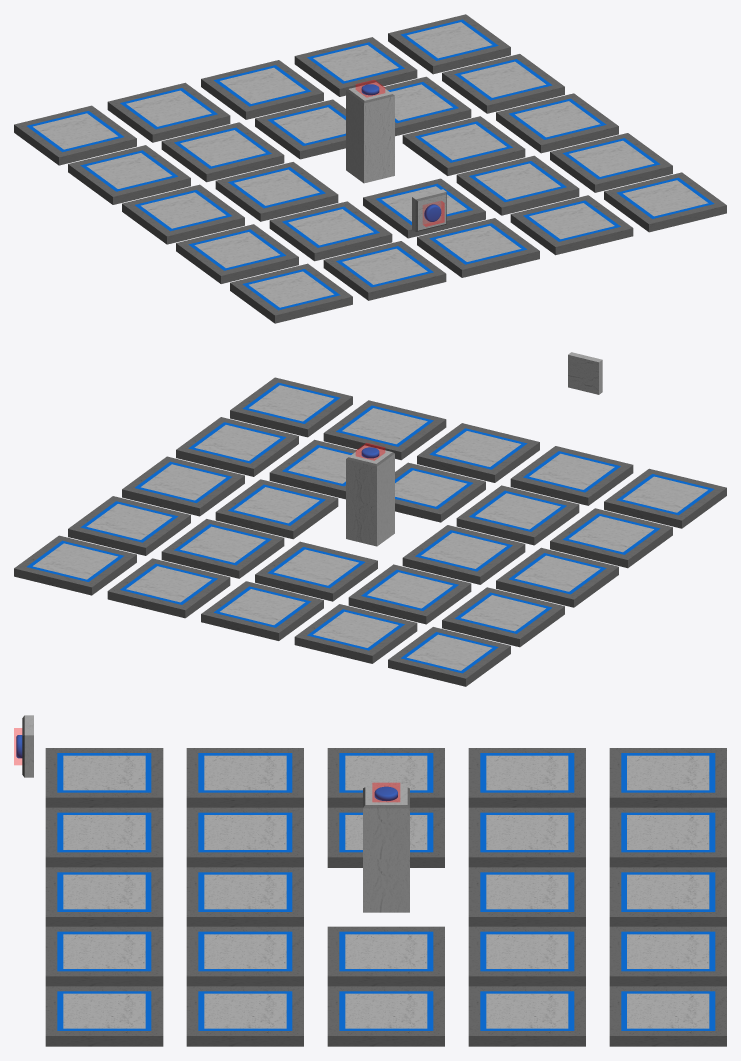
File: Plate.fbx
3 renders of one model, top to bottom at view 1: azimuth 30°, elevation 25°; view 2: azimuth 150°, elevation 25°; view 3: azimuth 270°, elevation 25°, orthographic. The views are drawn at different scales.
Parts seen in each view (by area): view 1: Plate_2_4, Plate_2_1, Plate_4_5, Plate_2_2, Plate_2_3, Plate_4_3, Plate_4_4, Plate_2_5, Plate_3_1, Plate_5_1, Plate_1_2, Plate_5_2 (+15 smaller); view 2: Plate_4_1, Plate_2_2, Plate_4_3, Plate_2_4, Plate_2_5, Plate_2_1, Plate_2_3, Plate_4_2, Plate_5_2, Plate_1_4, Plate_1_1, Plate_3_1 (+15 smaller); view 3: Plate_5_5, Plate_2_5, Plate_4_5, Plate_5_1, Plate_5_2, Plate_5_3, Plate_5_4, Plate_2_1, Plate_4_1, Plate_2_2, Plate_4_2, Plate_4_3 (+15 smaller).
Part boxes in pixels (x1=…): Plate_2_4: x1=269, y1=201, x2=392, y2=261; Plate_2_1: x1=107, y1=82, x2=230, y2=142; Plate_4_5: x1=510, y1=195, x2=633, y2=255; Plate_2_2: x1=161, y1=122, x2=284, y2=182; Plate_2_3: x1=215, y1=162, x2=338, y2=221; Plate_4_3: x1=402, y1=116, x2=525, y2=175; Plate_4_4: x1=456, y1=155, x2=579, y2=215; Plate_2_5: x1=323, y1=241, x2=446, y2=300; Plate_3_1: x1=201, y1=60, x2=323, y2=119; Plate_5_1: x1=388, y1=14, x2=510, y2=74; Plate_1_2: x1=68, y1=145, x2=190, y2=204; Plate_5_2: x1=442, y1=54, x2=564, y2=113; Plate_4_1: x1=107, y1=558, x2=230, y2=618; Plate_2_2: x1=348, y1=564, x2=471, y2=624; Plate_4_3: x1=215, y1=479, x2=338, y2=539; Plate_2_4: x1=456, y1=485, x2=579, y2=545; Plate_2_5: x1=510, y1=446, x2=633, y2=505; Plate_2_1: x1=294, y1=604, x2=417, y2=663; Plate_2_3: x1=402, y1=525, x2=525, y2=584; Plate_4_2: x1=161, y1=519, x2=284, y2=578; Plate_5_2: x1=68, y1=496, x2=190, y2=555; Plate_1_4: x1=550, y1=508, x2=672, y2=568; Plate_1_1: x1=388, y1=627, x2=510, y2=686; Plate_3_1: x1=201, y1=581, x2=323, y2=640; Plate_5_5: x1=45, y1=986, x2=163, y2=1046; Plate_2_5: x1=45, y1=807, x2=163, y2=867; Plate_4_5: x1=45, y1=926, x2=163, y2=986; Plate_5_1: x1=609, y1=986, x2=726, y2=1046; Plate_5_2: x1=468, y1=986, x2=585, y2=1046; Plate_5_3: x1=327, y1=986, x2=444, y2=1046; Plate_5_4: x1=186, y1=986, x2=303, y2=1046; Plate_2_1: x1=609, y1=807, x2=726, y2=867; Plate_4_1: x1=609, y1=926, x2=726, y2=986; Plate_2_2: x1=468, y1=807, x2=585, y2=867; Plate_4_2: x1=468, y1=926, x2=585, y2=986; Plate_4_3: x1=327, y1=926, x2=444, y2=986.
Size of the model in its own units: 5.8 by 1.2 by 6.07.
